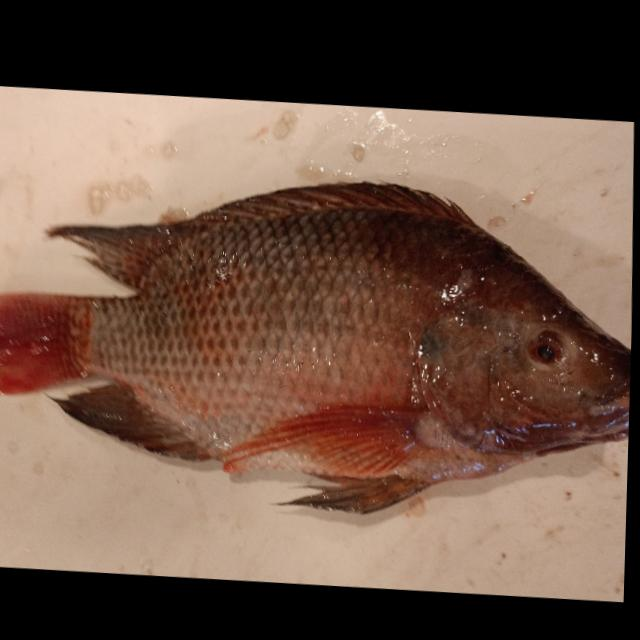Tilapia: (0, 151, 636, 542)
